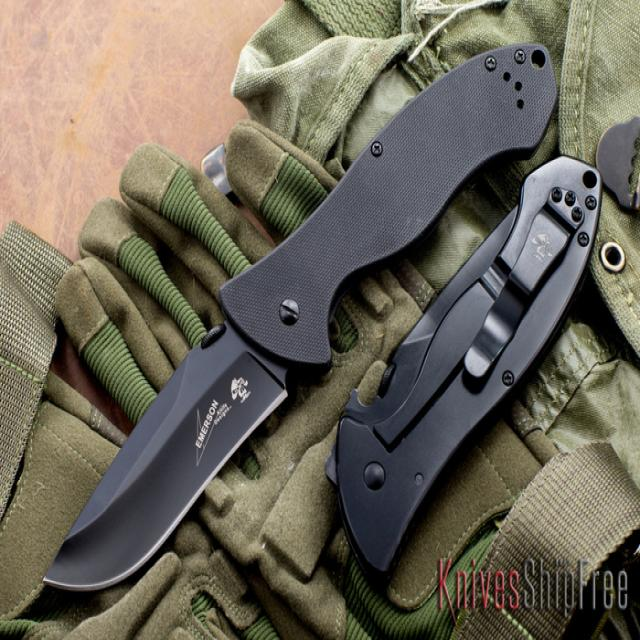knife: (37, 34, 560, 598)
